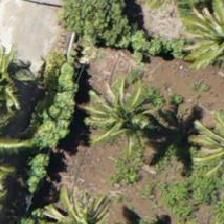coconut_tree: (82, 66, 172, 156)
